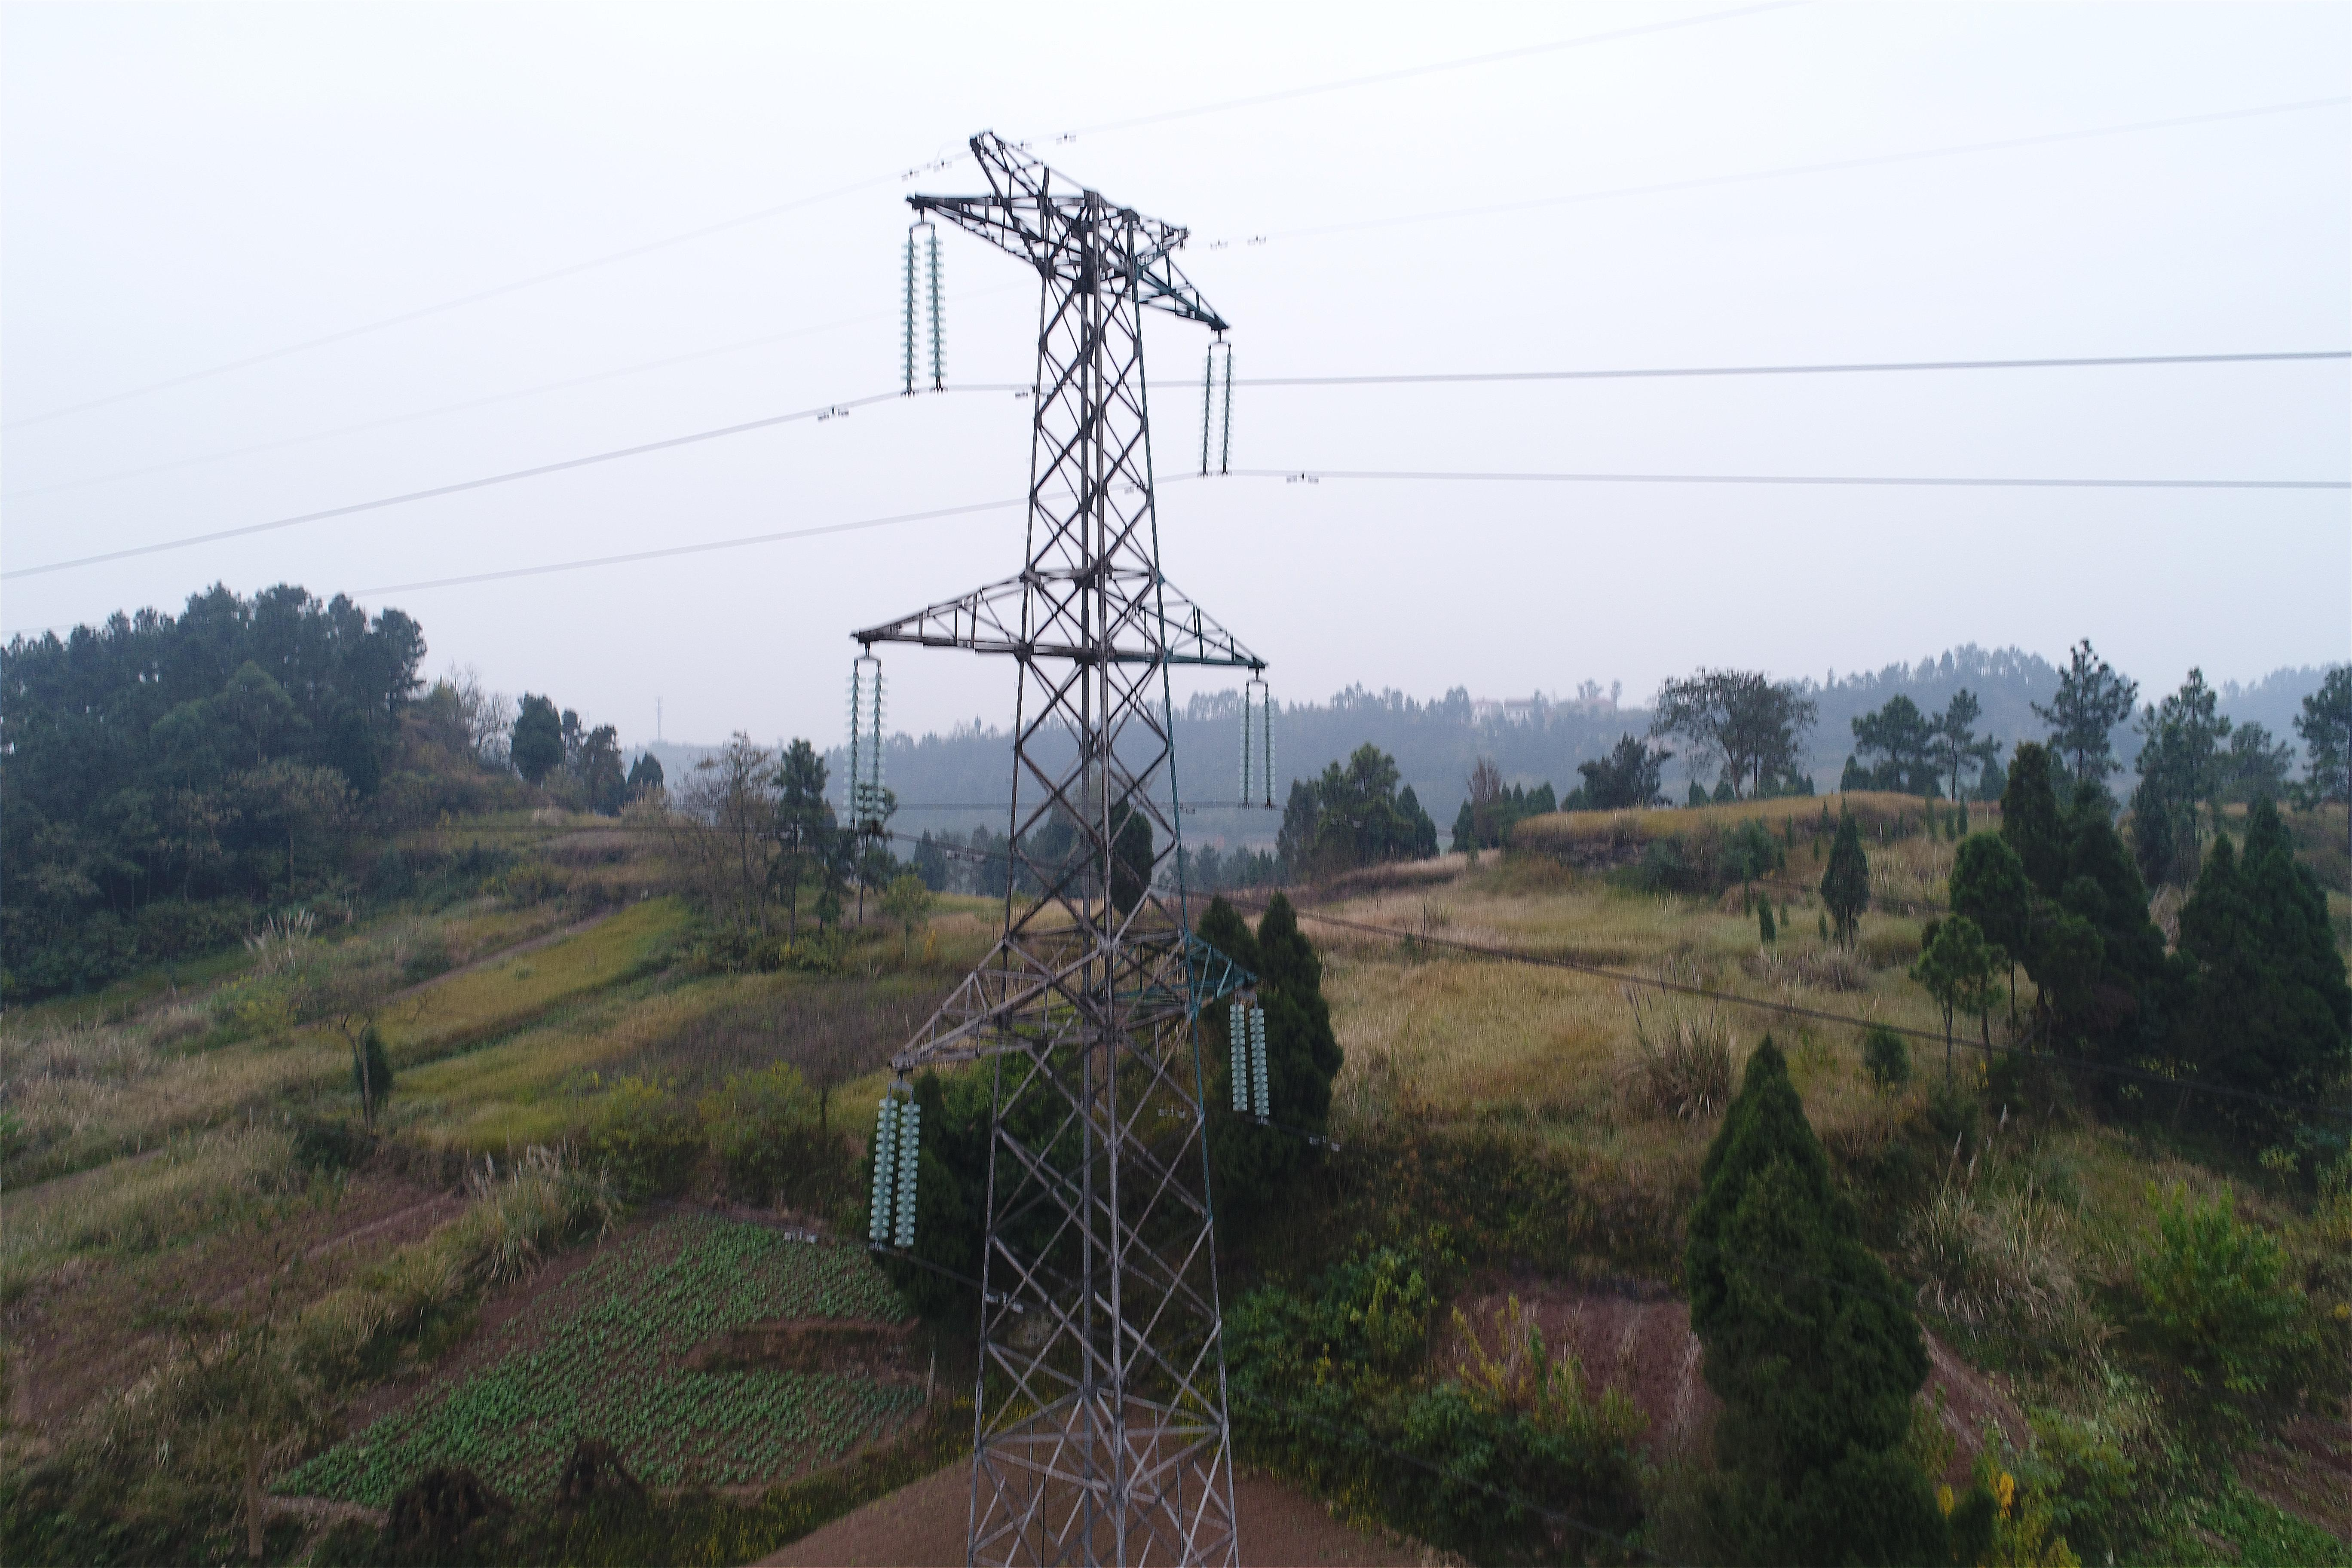insultor3: (866, 1090, 934, 1263), (889, 243, 961, 390), (1216, 1008, 1286, 1127), (842, 672, 894, 817), (1190, 364, 1235, 485), (1232, 691, 1274, 810)
